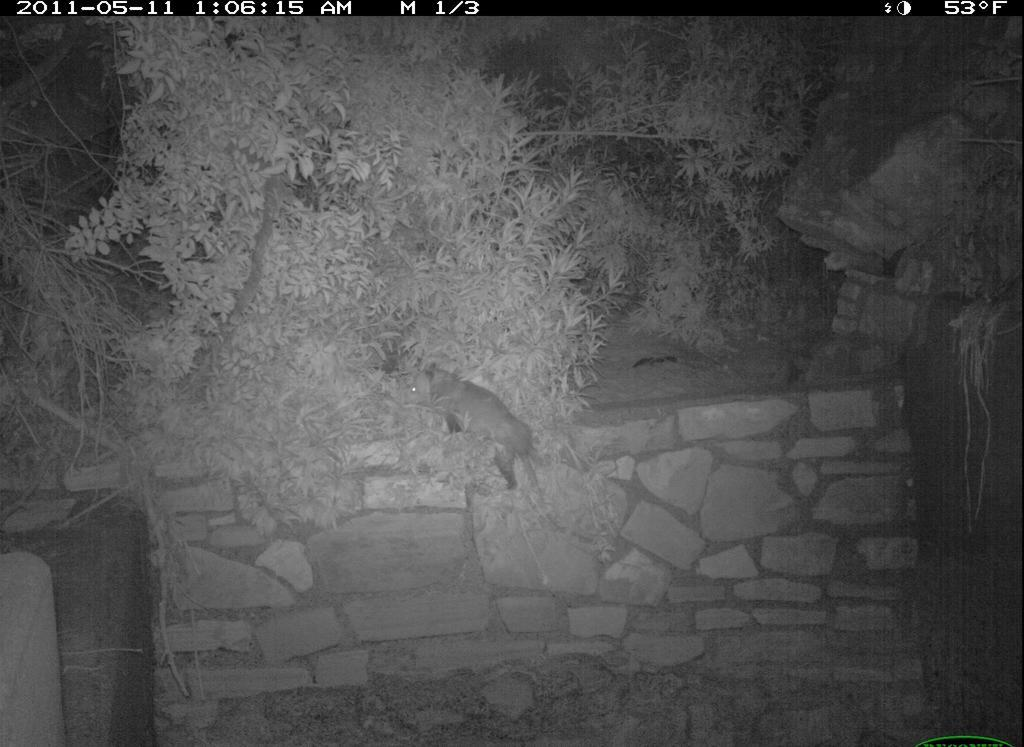opossum: (399, 355, 565, 528)
